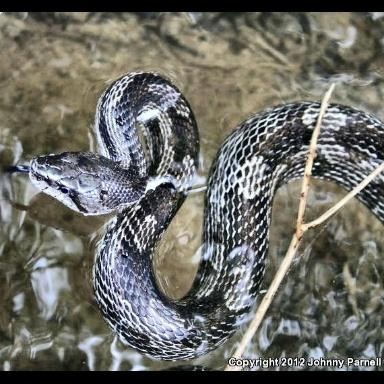snake: (20, 71, 384, 370)
